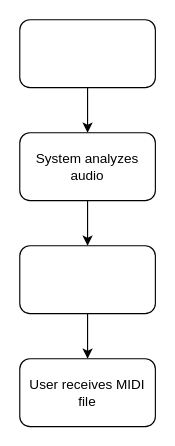
Some shapes in this 175 by 446 pixel diagram are drawn without their labels. Each missing label, with the centre of its shape:
MIDI file generation: the point at 87,279
User submits audio file: the point at 87,53
